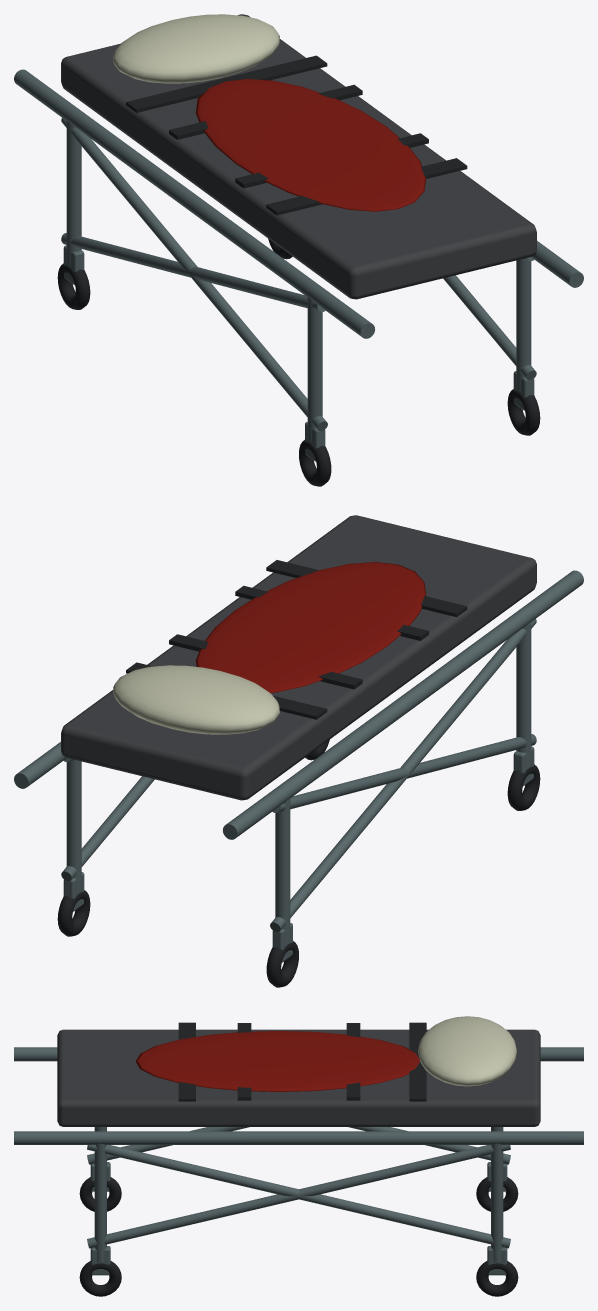
Rendered from Stretcher.obj.
3 views of the same model, one above another, from view 1: azimuth 30°, elevation 25°; view 2: azimuth 150°, elevation 25°; view 3: azimuth 270°, elevation 25° (orthographic). The views are drawn at different scales.
Visible parts, largest first — view 1: Stretcher; view 2: Stretcher; view 3: Stretcher.
Boxes of the visible parts, x1,y1,x2,y2 form: Stretcher: (14,14,583,486); Stretcher: (14,515,583,987); Stretcher: (14,1016,583,1296).
Bounding box in the file's own units: 0.856 × 0.975 × 2.3.
